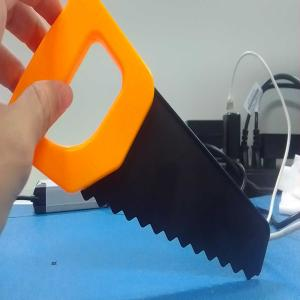serrote: (26, 0, 271, 283)
